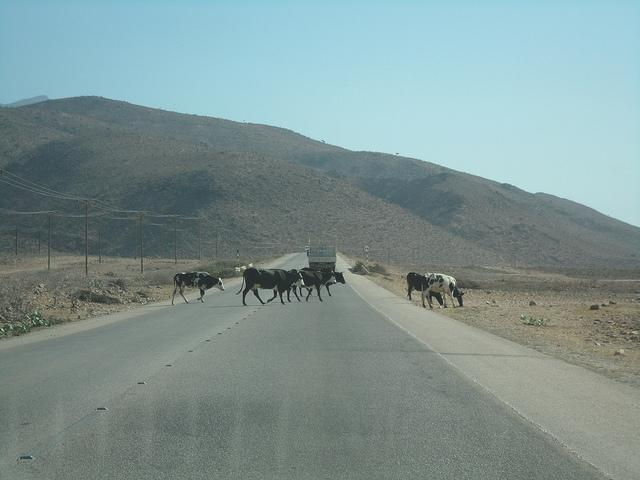truck: (305, 235, 337, 272)
